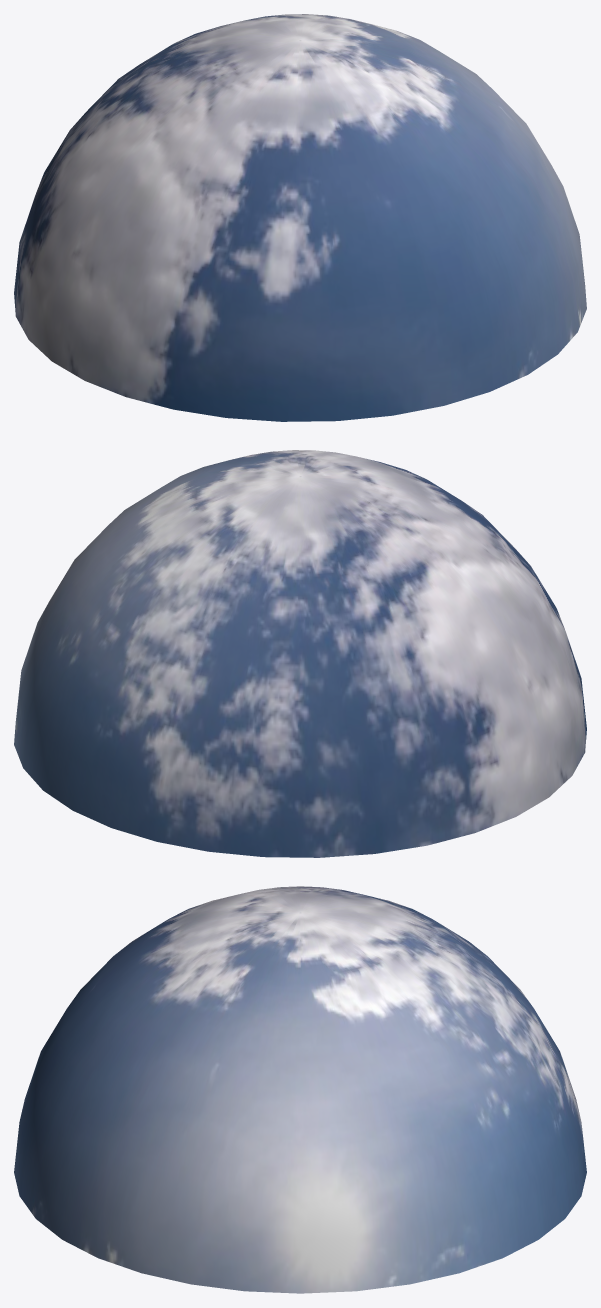
The model's file is esfera.obj.
The picture shows the model from 3 angles, top to bottom: view 1: azimuth 30°, elevation 25°; view 2: azimuth 150°, elevation 25°; view 3: azimuth 270°, elevation 25°; orthographic projection.
Visible parts, largest first — view 1: Sphere; view 2: Sphere; view 3: Sphere.
Part boxes in pixels (x1,y1,x2,y2): Sphere: (14, 14, 586, 421); Sphere: (14, 450, 586, 857); Sphere: (14, 886, 586, 1293).
Bounding box in the file's own units: 150 × 75 × 150.
Materials: 1 (1 with a texture image).
